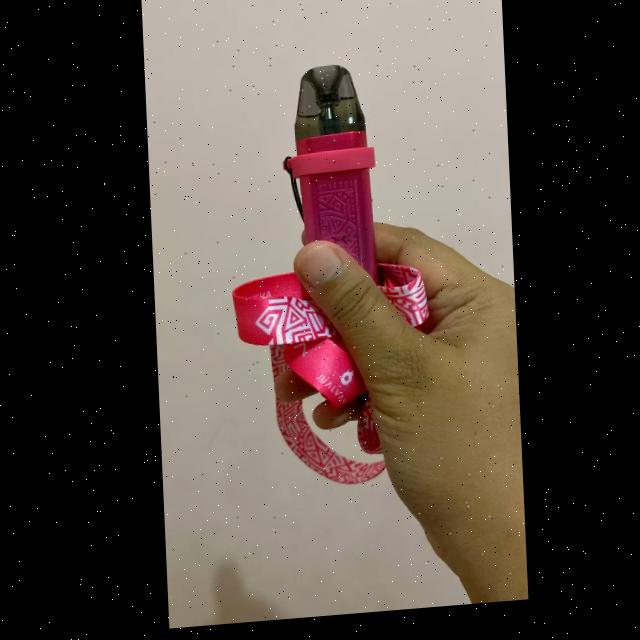vape: (290, 66, 374, 352)
